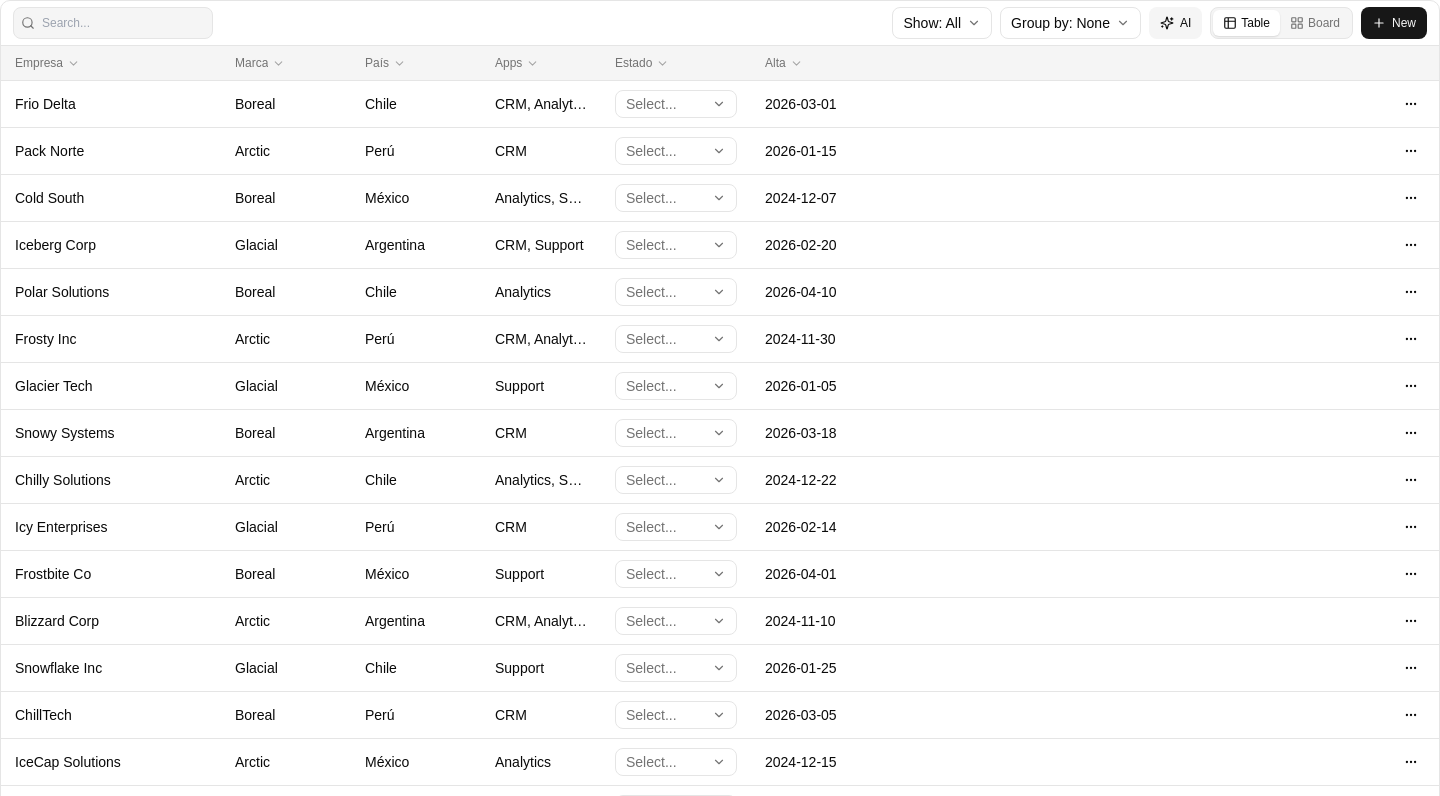
Scenario: a full English labels object translates the value filter menu
Click the button "País".
click(416, 63)  # box [365, 54, 467, 72]
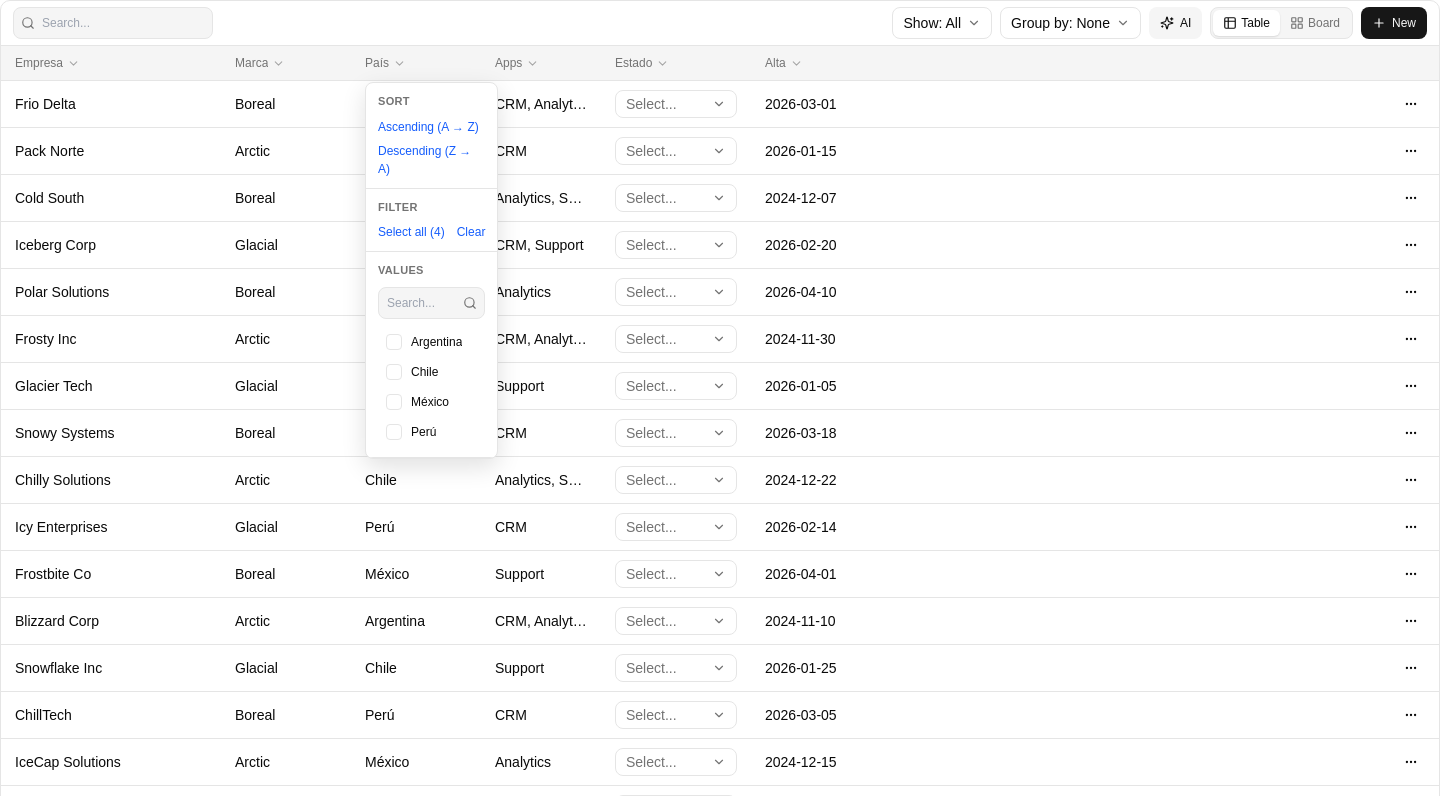
Now the text "Sort" is shown, box [378, 93, 410, 110]
Now the button "Ascending (A → Z)" is shown, box [378, 118, 485, 136]
Now the button "Descending (Z → A)" is shown, box [378, 142, 485, 178]
Type "zzz" into the field with placeholder "Search...".
click(432, 302); type("zzz")  # box [378, 286, 485, 318]
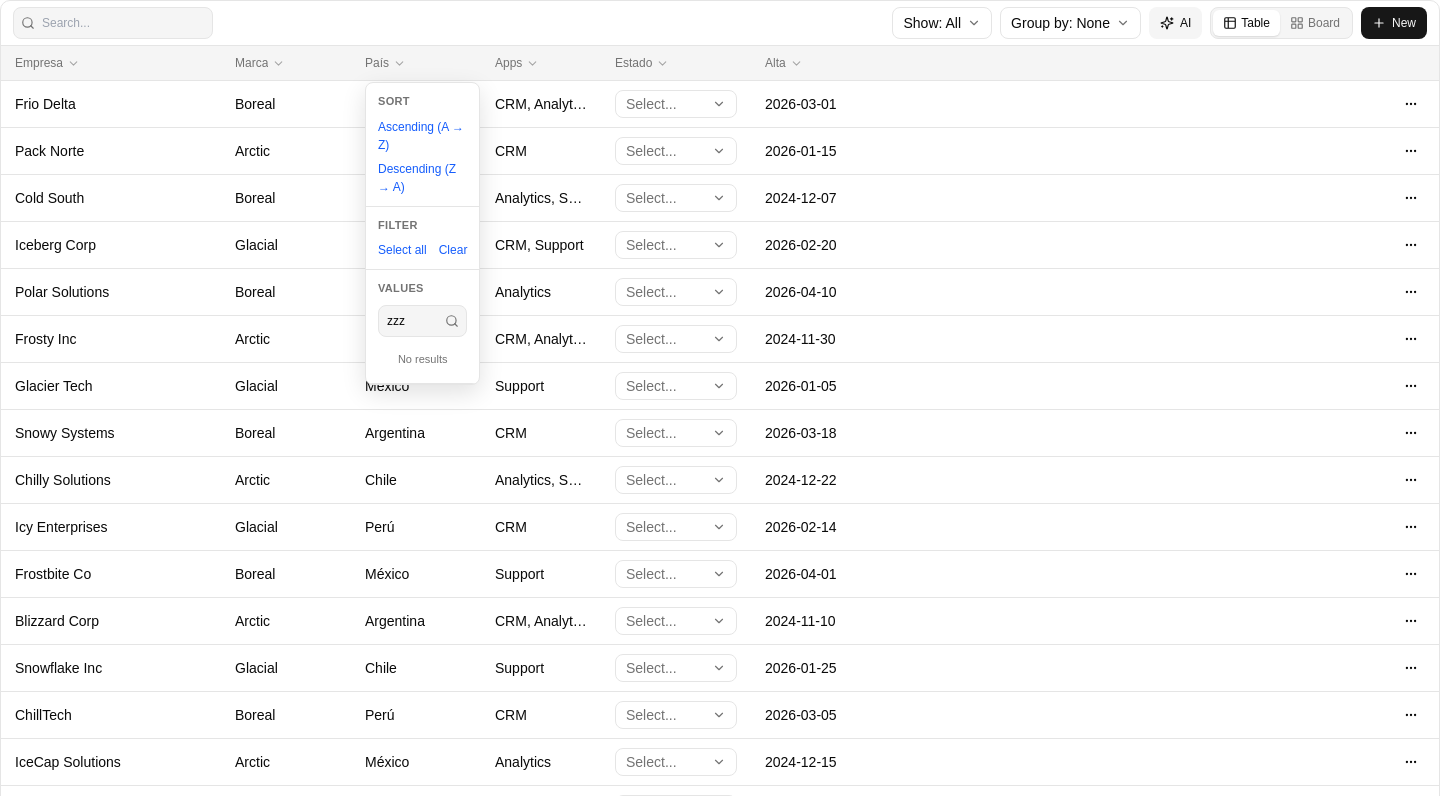
Now the button "Select all" is shown, box [378, 241, 427, 259]
Now the text "No results" is shown, box [398, 352, 447, 364]
